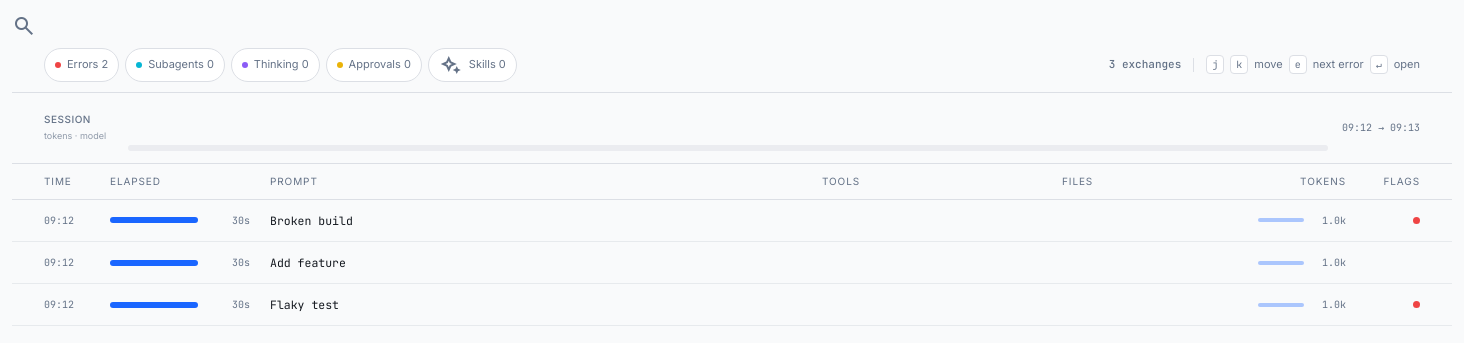
Test: TimelineTab › shows per-chip counts and narrows the track when a chip is toggled
Check: the text "3 exchanges" is shown, box [1109, 56, 1181, 73]
Click the button "Errors 2". click: x=82, y=65
box: [44, 48, 119, 82]
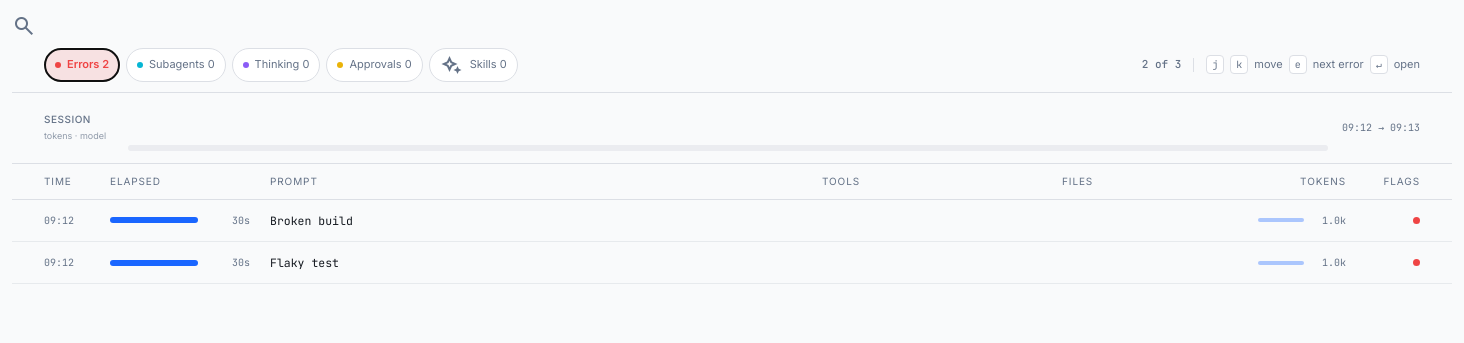
Check: the text "Broken build" is shown, box [270, 213, 353, 228]
Check: the button "Add feature" is gone
Check: the text "2 of 3" is shown, box [1142, 56, 1181, 73]
